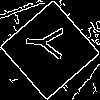Y: (25, 25, 73, 61)
